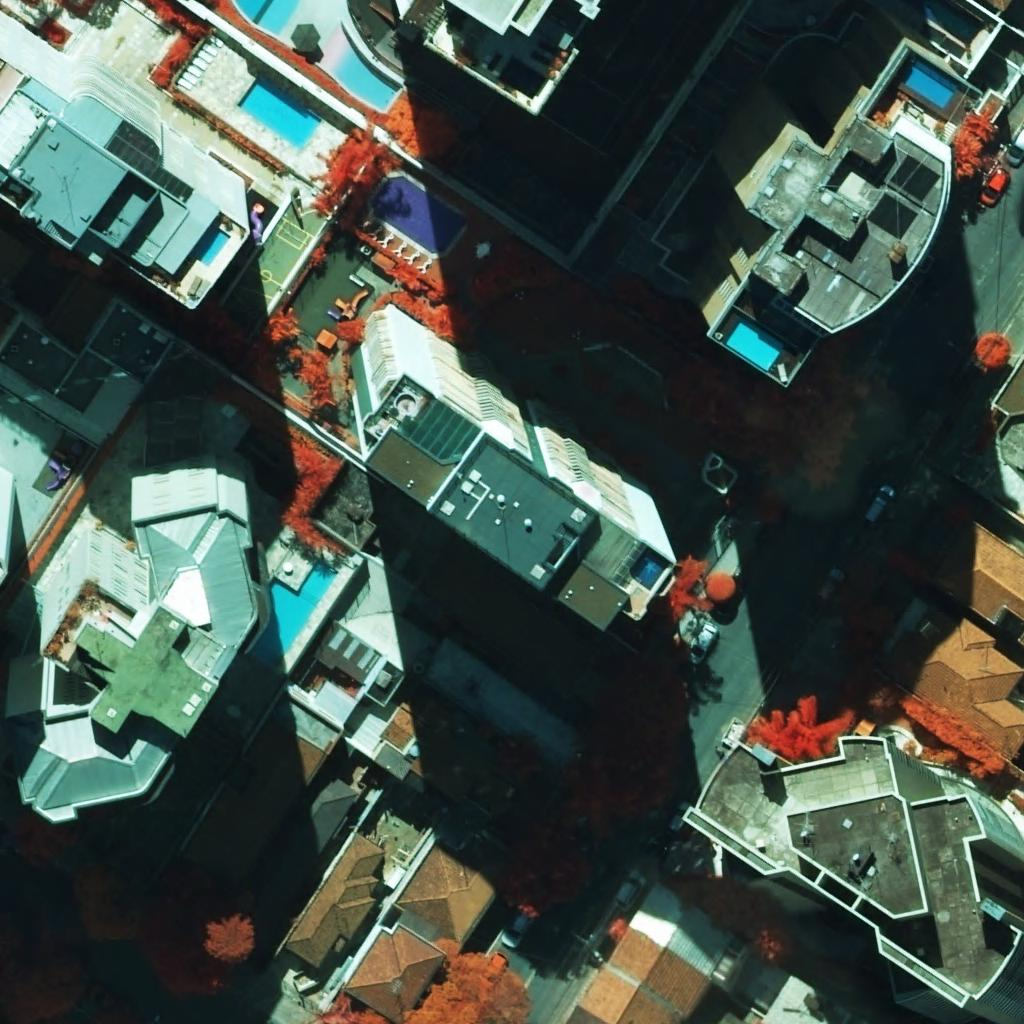pool: (250, 560, 338, 665), (372, 176, 466, 253), (237, 75, 321, 149), (333, 48, 400, 110), (724, 318, 785, 371), (896, 59, 957, 109), (235, 0, 299, 35), (629, 547, 669, 591), (195, 227, 231, 266)
